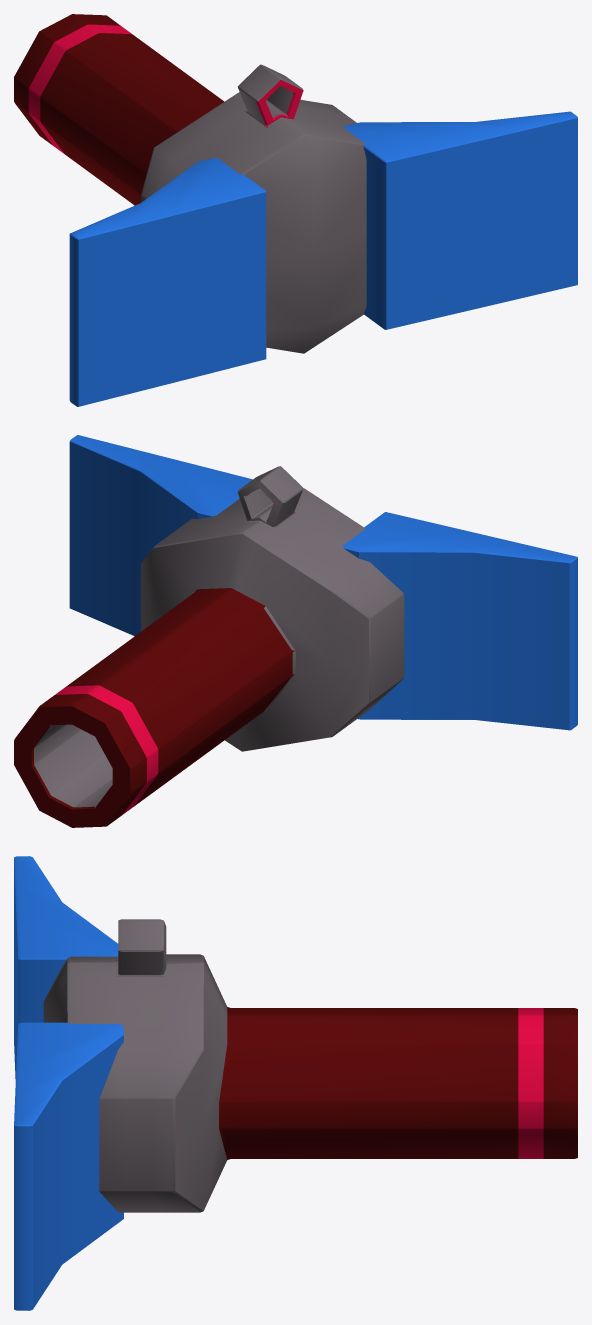
Rendered from Cannon3.fbx.
3 renders of one model, top to bottom at view 1: azimuth 30°, elevation 25°; view 2: azimuth 150°, elevation 25°; view 3: azimuth 270°, elevation 25°, orthographic. The views are drawn at different scales.
Visible parts, largest first — view 1: Shields, Cannon; view 2: Cannon, Shields; view 3: Cannon, Shields.
Part boxes in pixels (left/top/right/bottom): Shields: left=69, top=111, right=577, bottom=406; Cannon: left=14, top=14, right=366, bottom=353; Cannon: left=14, top=466, right=404, bottom=827; Shields: left=69, top=435, right=577, bottom=730; Cannon: left=43, top=919, right=577, bottom=1212; Shields: left=14, top=856, right=123, bottom=1310.
Size of the model in its own units: 1010 by 497 by 893.
